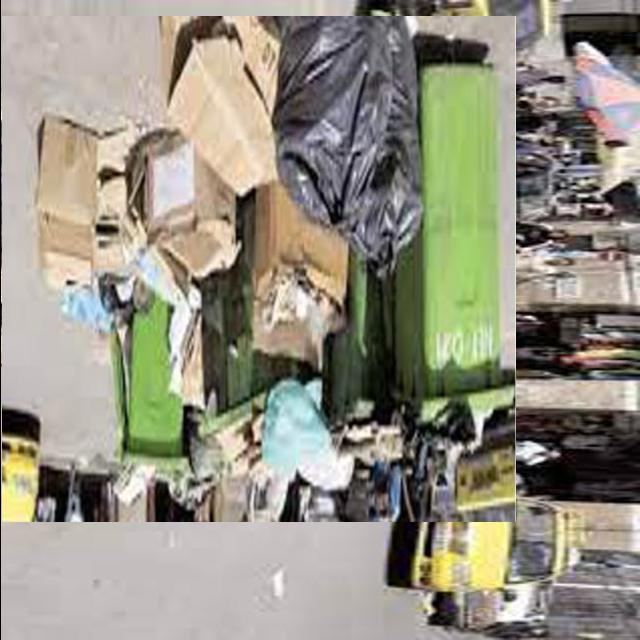Trashbag: (270, 0, 450, 269)
